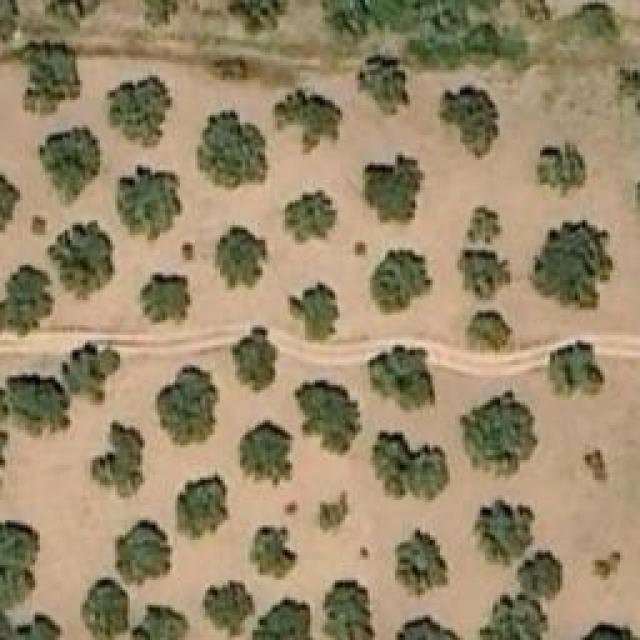Tree: (530, 218, 618, 308), (460, 390, 538, 483), (372, 430, 450, 505), (198, 110, 271, 190), (152, 363, 220, 448), (115, 162, 183, 240), (293, 380, 363, 455), (367, 345, 435, 413), (108, 75, 171, 148), (48, 220, 113, 288), (273, 90, 343, 153), (90, 420, 145, 500), (530, 342, 605, 400), (363, 155, 426, 223), (443, 83, 498, 158), (392, 528, 450, 598), (23, 38, 78, 111), (237, 420, 295, 488), (175, 472, 233, 540), (373, 248, 433, 313), (477, 500, 535, 565), (118, 517, 173, 585), (8, 375, 71, 433), (0, 267, 52, 334), (278, 187, 338, 245), (38, 130, 101, 185), (62, 342, 120, 400), (322, 577, 375, 640), (358, 55, 411, 115), (218, 225, 268, 288), (288, 282, 341, 340), (533, 145, 588, 198), (140, 273, 198, 323), (230, 328, 275, 391), (250, 595, 313, 640), (480, 595, 543, 640), (562, 0, 621, 47), (458, 250, 508, 303), (250, 525, 298, 580), (205, 580, 253, 635), (85, 580, 130, 633), (228, 0, 288, 35), (0, 522, 40, 570), (132, 607, 187, 640), (468, 310, 511, 350), (395, 615, 463, 640), (45, 0, 98, 30), (520, 552, 560, 590), (465, 205, 503, 243), (140, 0, 190, 28), (0, 172, 22, 235), (615, 63, 640, 118), (515, 0, 550, 25), (323, 498, 348, 531), (585, 448, 608, 483), (595, 550, 620, 580), (0, 0, 15, 38), (28, 215, 51, 238), (180, 243, 195, 266)
